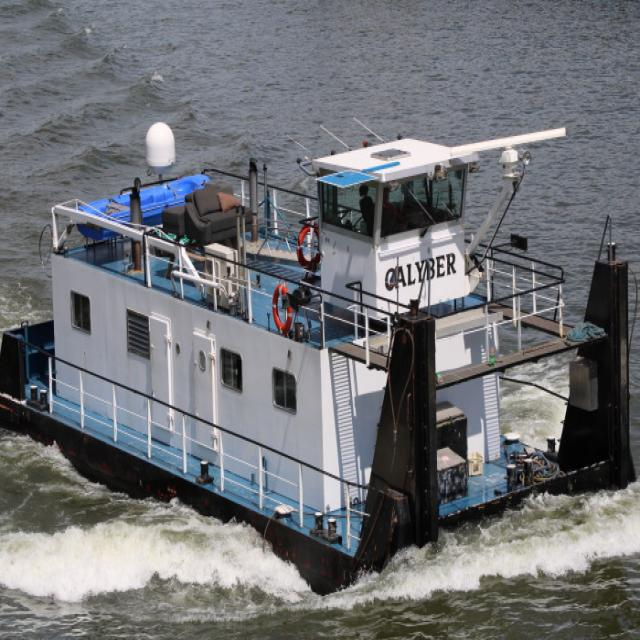tugboat: (1, 121, 640, 614)
